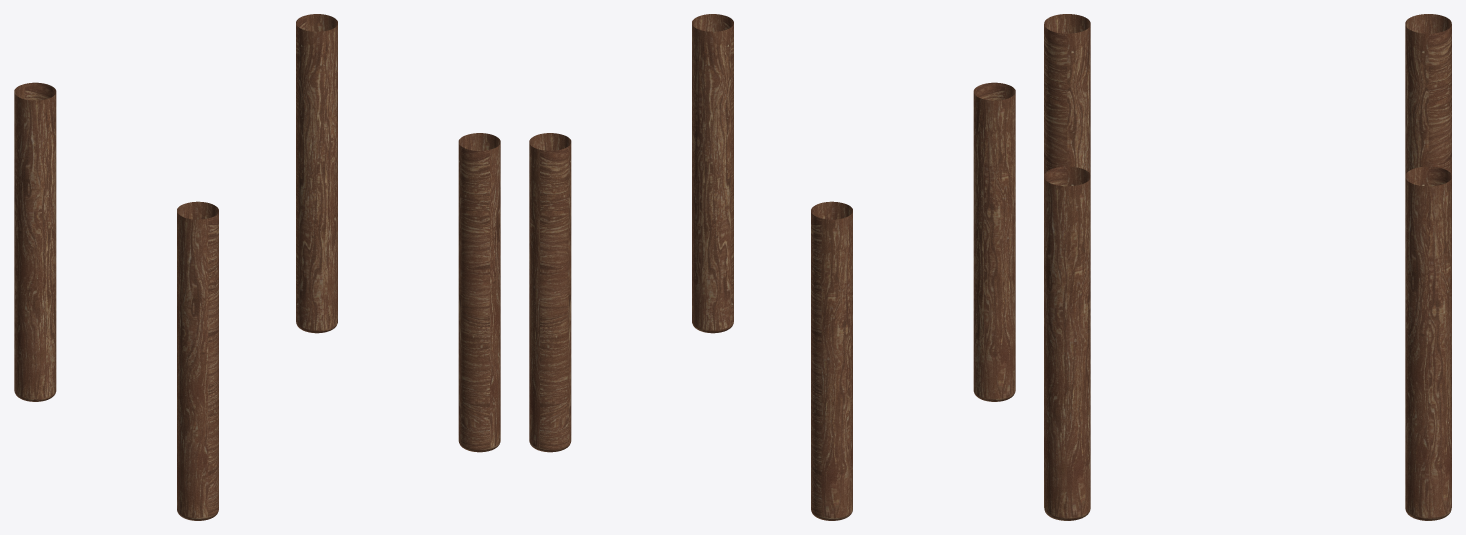
File: TableLegs_Square.obj
The picture shows the model from 3 angles, left to right: view 1: azimuth 30°, elevation 25°; view 2: azimuth 150°, elevation 25°; view 3: azimuth 270°, elevation 25°; orthographic projection. The views are drawn at different scales.
Size of the model in its own units: 700 by 638 by 700.
Materials: 1 (1 with a texture image).
